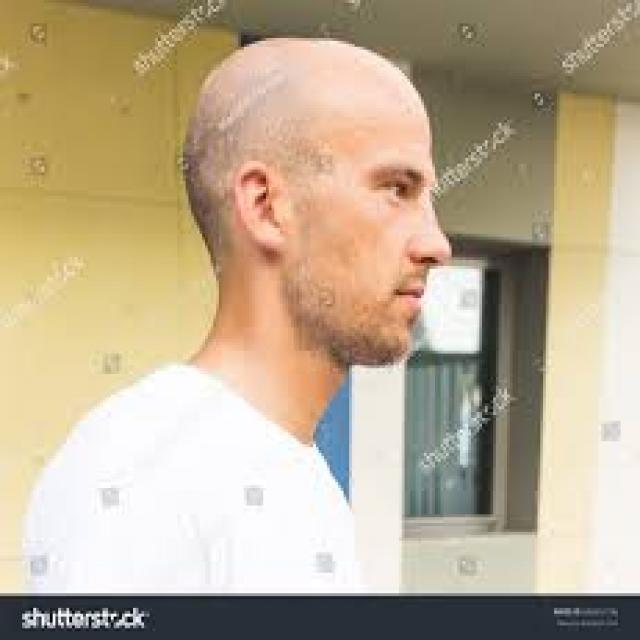bald: (166, 22, 457, 260)
